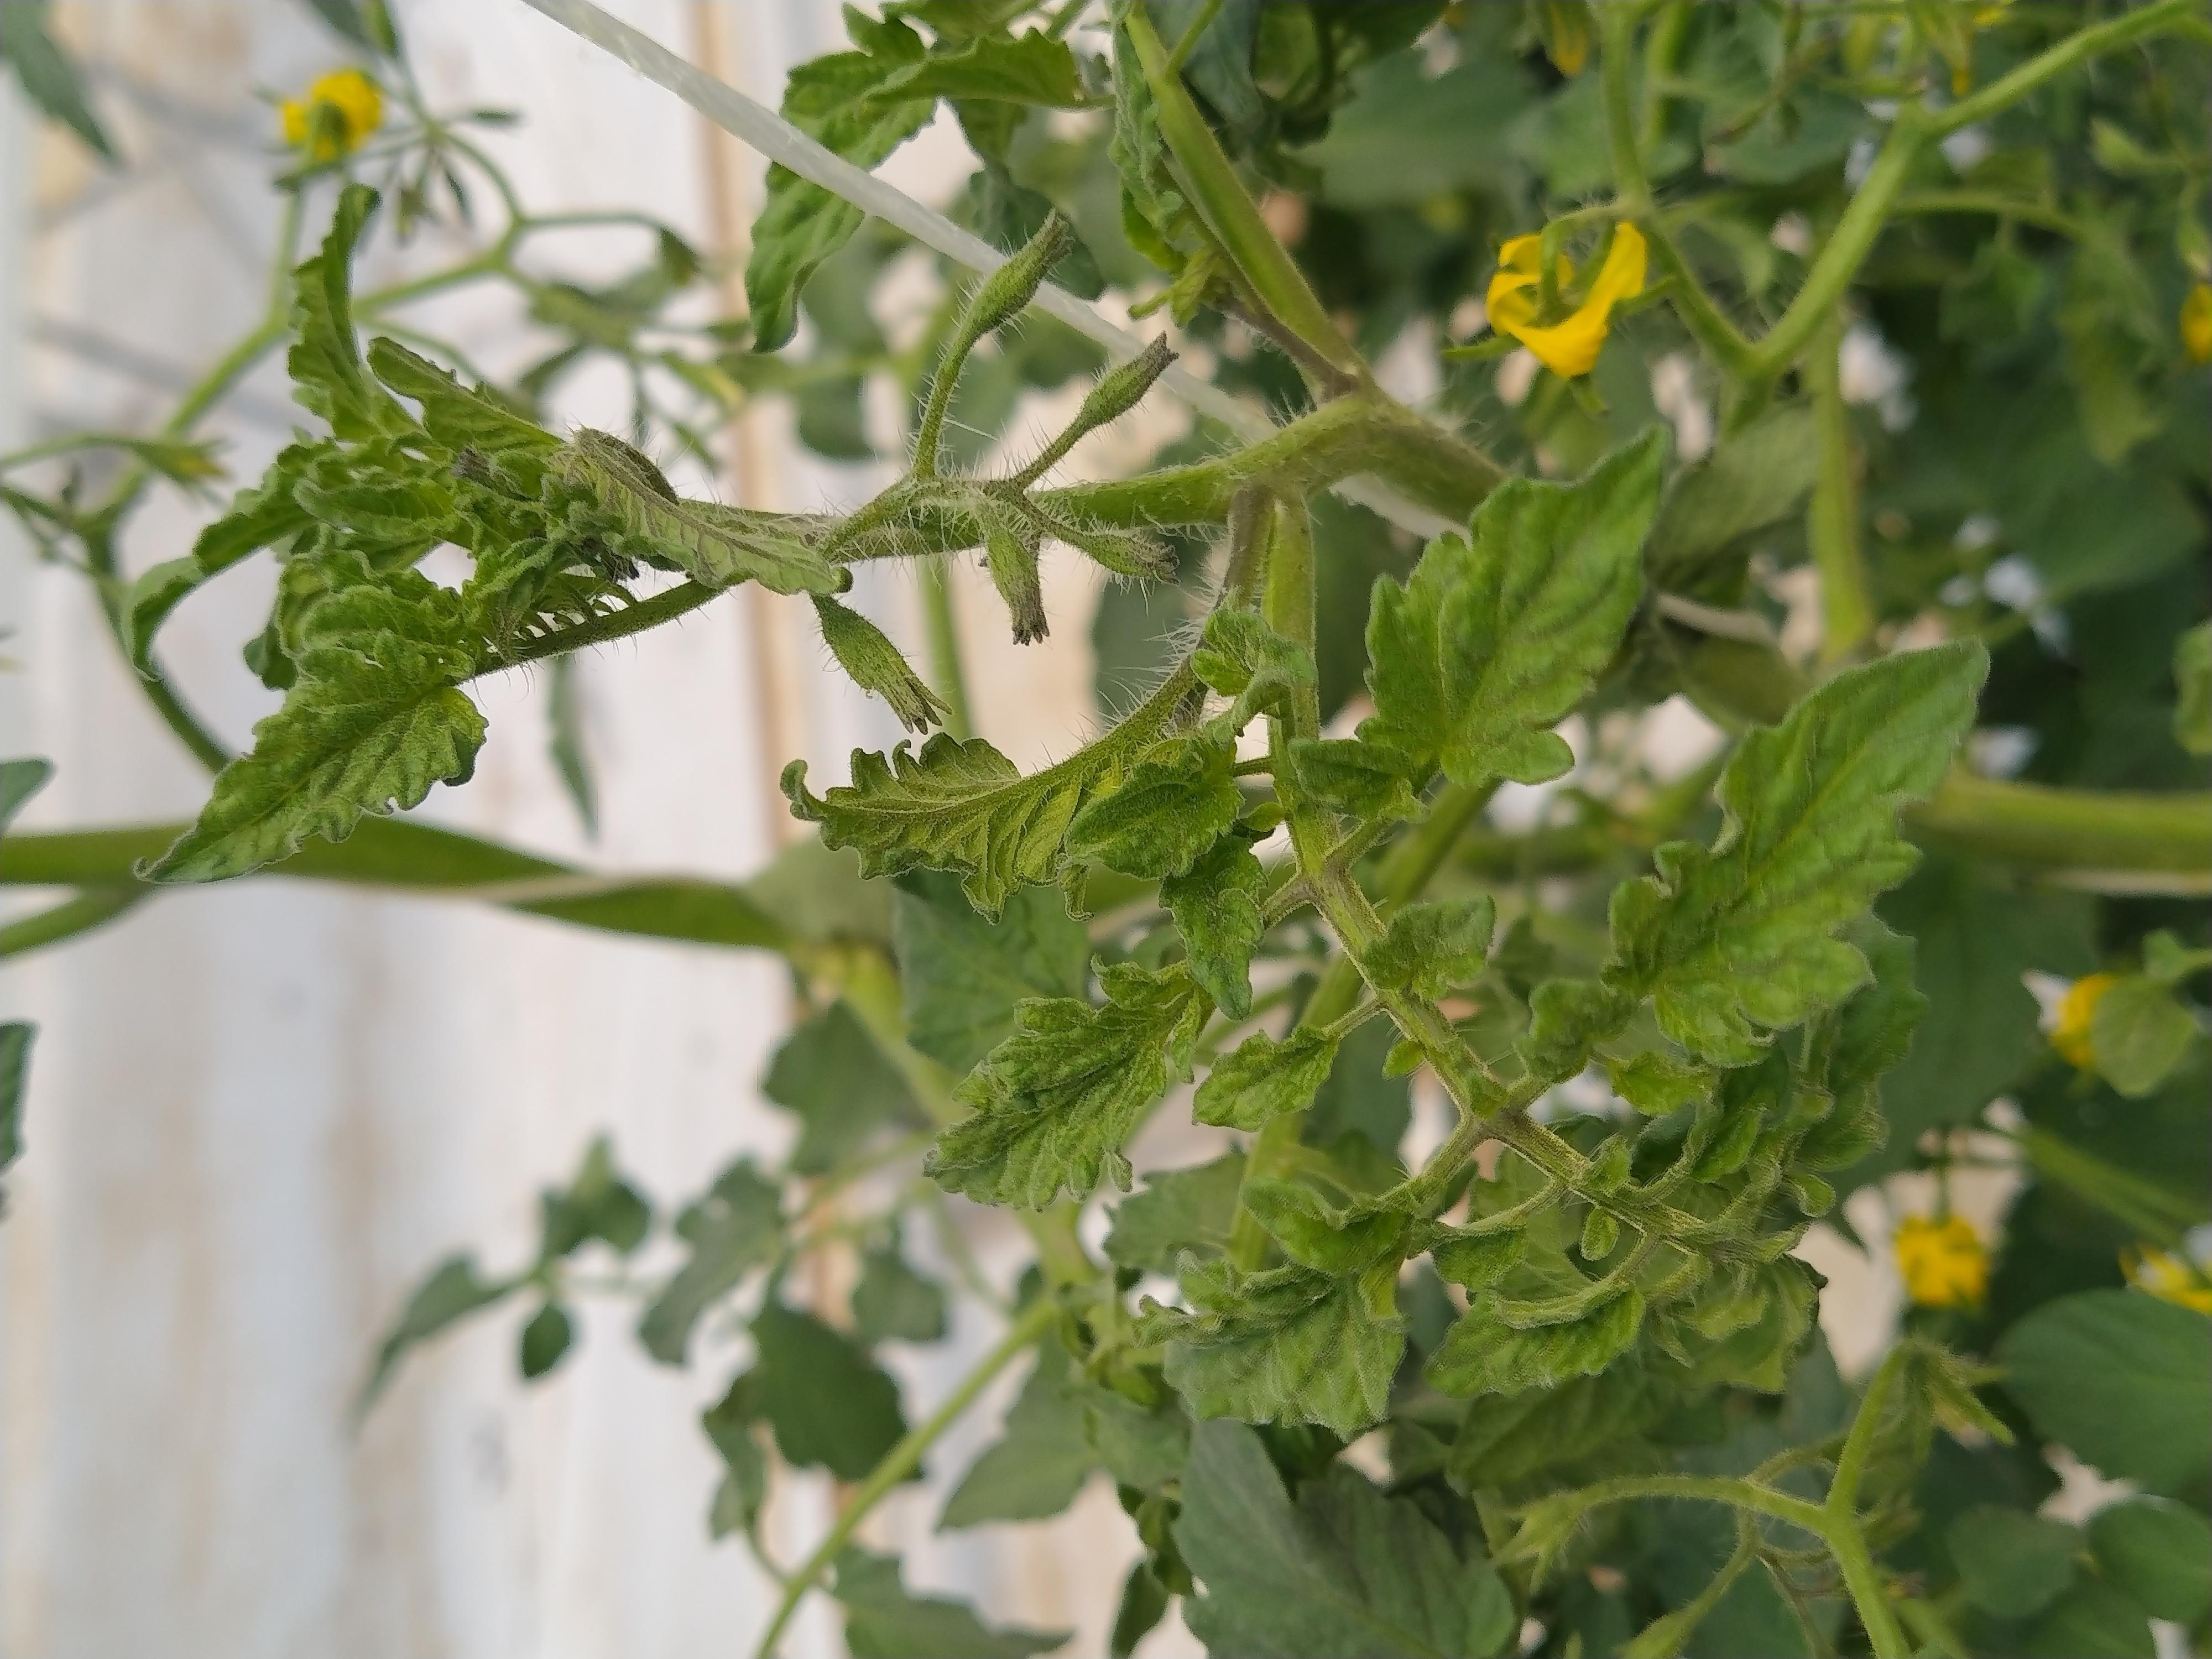Flor rugoso: (907, 211, 1071, 479), (1010, 336, 1176, 488), (812, 596, 946, 730), (986, 526, 1050, 643), (1068, 532, 1176, 584)
Hoja rugoso: (1602, 640, 1987, 1066), (1360, 432, 1663, 786), (786, 660, 1202, 917), (143, 634, 484, 882), (925, 964, 1214, 1209), (554, 427, 852, 592), (1136, 1253, 1404, 1434), (1426, 1283, 1646, 1396), (1068, 739, 1240, 877), (1162, 833, 1266, 1019), (1193, 1028, 1339, 1133), (1360, 899, 1494, 999)
